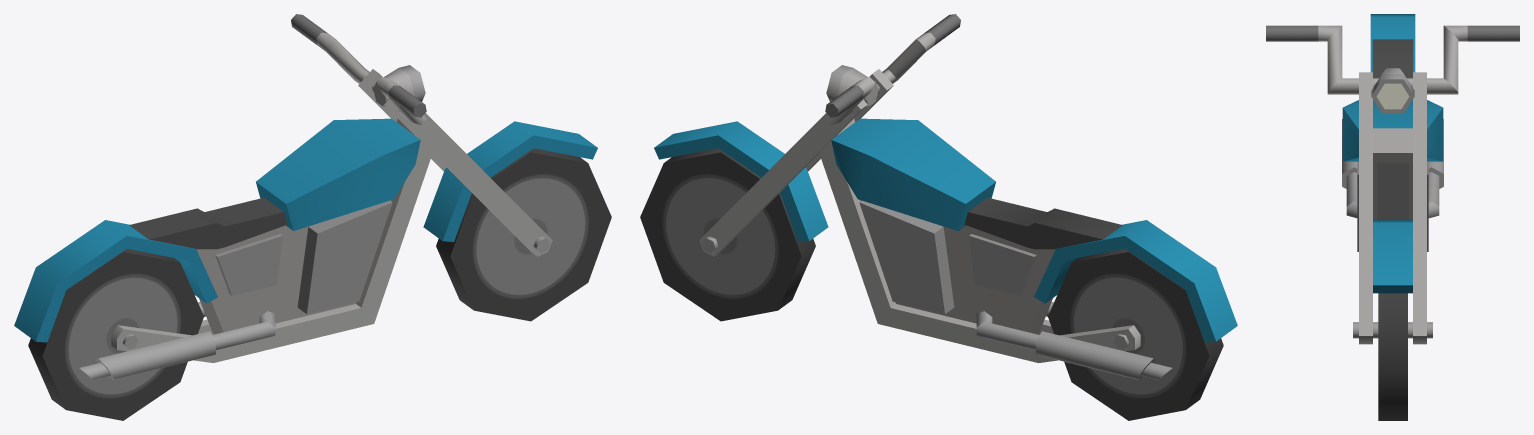
File: west_che09.FBX
3 views of the same model, side by side, from view 1: azimuth 30°, elevation 25°; view 2: azimuth 150°, elevation 25°; view 3: azimuth 270°, elevation 25° (orthographic). The views are drawn at different scales.
Visible parts, largest first — view 1: west_che09; view 2: west_che09; view 3: west_che09.
Boxes of the visible parts, <box> form: west_che09: <box>14,14,611,420</box>; west_che09: <box>640,14,1237,420</box>; west_che09: <box>1266,14,1519,420</box>.
Bounding box in the file's own units: 614 × 301 × 225.
